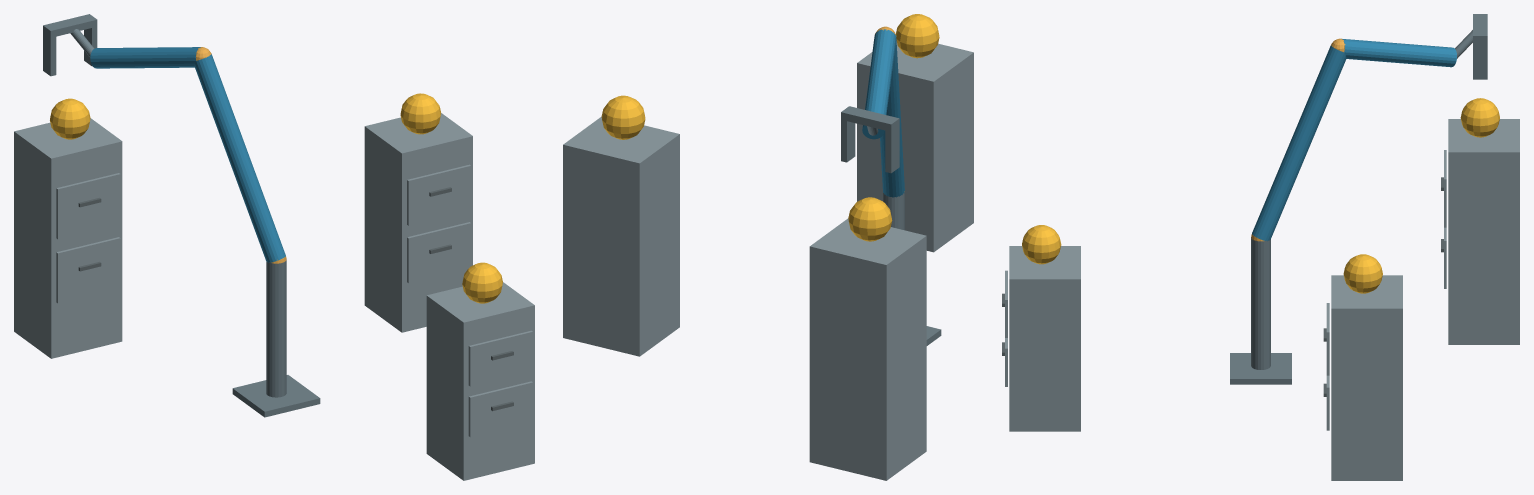
3 views of the same model, side by side, from view 1: azimuth 30°, elevation 25°; view 2: azimuth 150°, elevation 25°; view 3: azimuth 270°, elevation 25° (orthographic). The views are drawn at different scales.
Visible parts, largest first — view 1: cabinet_3 body, cabinet_2 body, cabinet_1 body, moving link 1, cabinet_3 drawer front, cabinet_3 drawer front.001, cabinet_2 drawer front.001, cabinet_2 drawer front, fixed post, cabinet_1 drawer front.001, cabinet_1 drawer front, moving link 2 (+6 smaller); view 2: cabinet_3 body, cabinet_2 body, cabinet_1 body, moving link 2, moving link 1, ball ball_3, released ball_2, released ball_1, gripper bridge, gripper finger -1, gripper finger 1, fixed post; view 3: cabinet_3 body, cabinet_2 body, cabinet_1 body, moving link 1, fixed post, moving link 2, pedestal, released ball_1, released ball_2, ball ball_3, gripper finger 1.
Boxes of the visible parts, left/top/right/bottom form: cabinet_3 body: left=14, top=118, right=122, bottom=358; cabinet_2 body: left=364, top=113, right=472, bottom=332; cabinet_1 body: left=426, top=282, right=534, bottom=480; moving link 1: left=194, top=54, right=285, bottom=262; cabinet_3 drawer front: left=56, top=237, right=120, bottom=303; cabinet_3 drawer front.001: left=56, top=173, right=120, bottom=239; cabinet_2 drawer front.001: left=407, top=164, right=471, bottom=225; cabinet_2 drawer front: left=407, top=222, right=471, bottom=283; fixed post: left=266, top=260, right=286, bottom=397; cabinet_1 drawer front.001: left=468, top=330, right=532, bottom=386; cabinet_1 drawer front: left=468, top=381, right=532, bottom=437; moving link 2: left=90, top=47, right=200, bottom=68; cabinet_3 body: left=809, top=218, right=926, bottom=480; cabinet_2 body: left=563, top=116, right=679, bottom=356; cabinet_1 body: left=857, top=41, right=973, bottom=252; moving link 2: left=862, top=29, right=896, bottom=139; moving link 1: left=880, top=35, right=904, bottom=197; ball ball_3: left=848, top=197, right=892, bottom=241; released ball_2: left=601, top=95, right=645, bottom=139; released ball_1: left=895, top=14, right=939, bottom=58; gripper bridge: left=841, top=106, right=899, bottom=131; gripper finger -1: left=885, top=126, right=899, bottom=173; gripper finger 1: left=841, top=120, right=855, bottom=162; fixed post: left=883, top=191, right=904, bottom=230; cabinet_3 body: left=1448, top=119, right=1519, bottom=344; cabinet_2 body: left=1331, top=275, right=1402, bottom=480; cabinet_1 body: left=1009, top=246, right=1080, bottom=431; moving link 1: left=1252, top=45, right=1346, bottom=241; fixed post: left=1251, top=237, right=1270, bottom=369; moving link 2: left=1342, top=39, right=1456, bottom=67; pedestal: left=1230, top=353, right=1291, bottom=384; released ball_1: left=1022, top=225, right=1061, bottom=264; released ball_2: left=1343, top=254, right=1382, bottom=293; ball ball_3: left=1460, top=98, right=1499, bottom=137; gripper finger 1: left=1473, top=42, right=1487, bottom=79.
Bounding box in the file's own units: 1.62 × 1.41 × 2.1.
